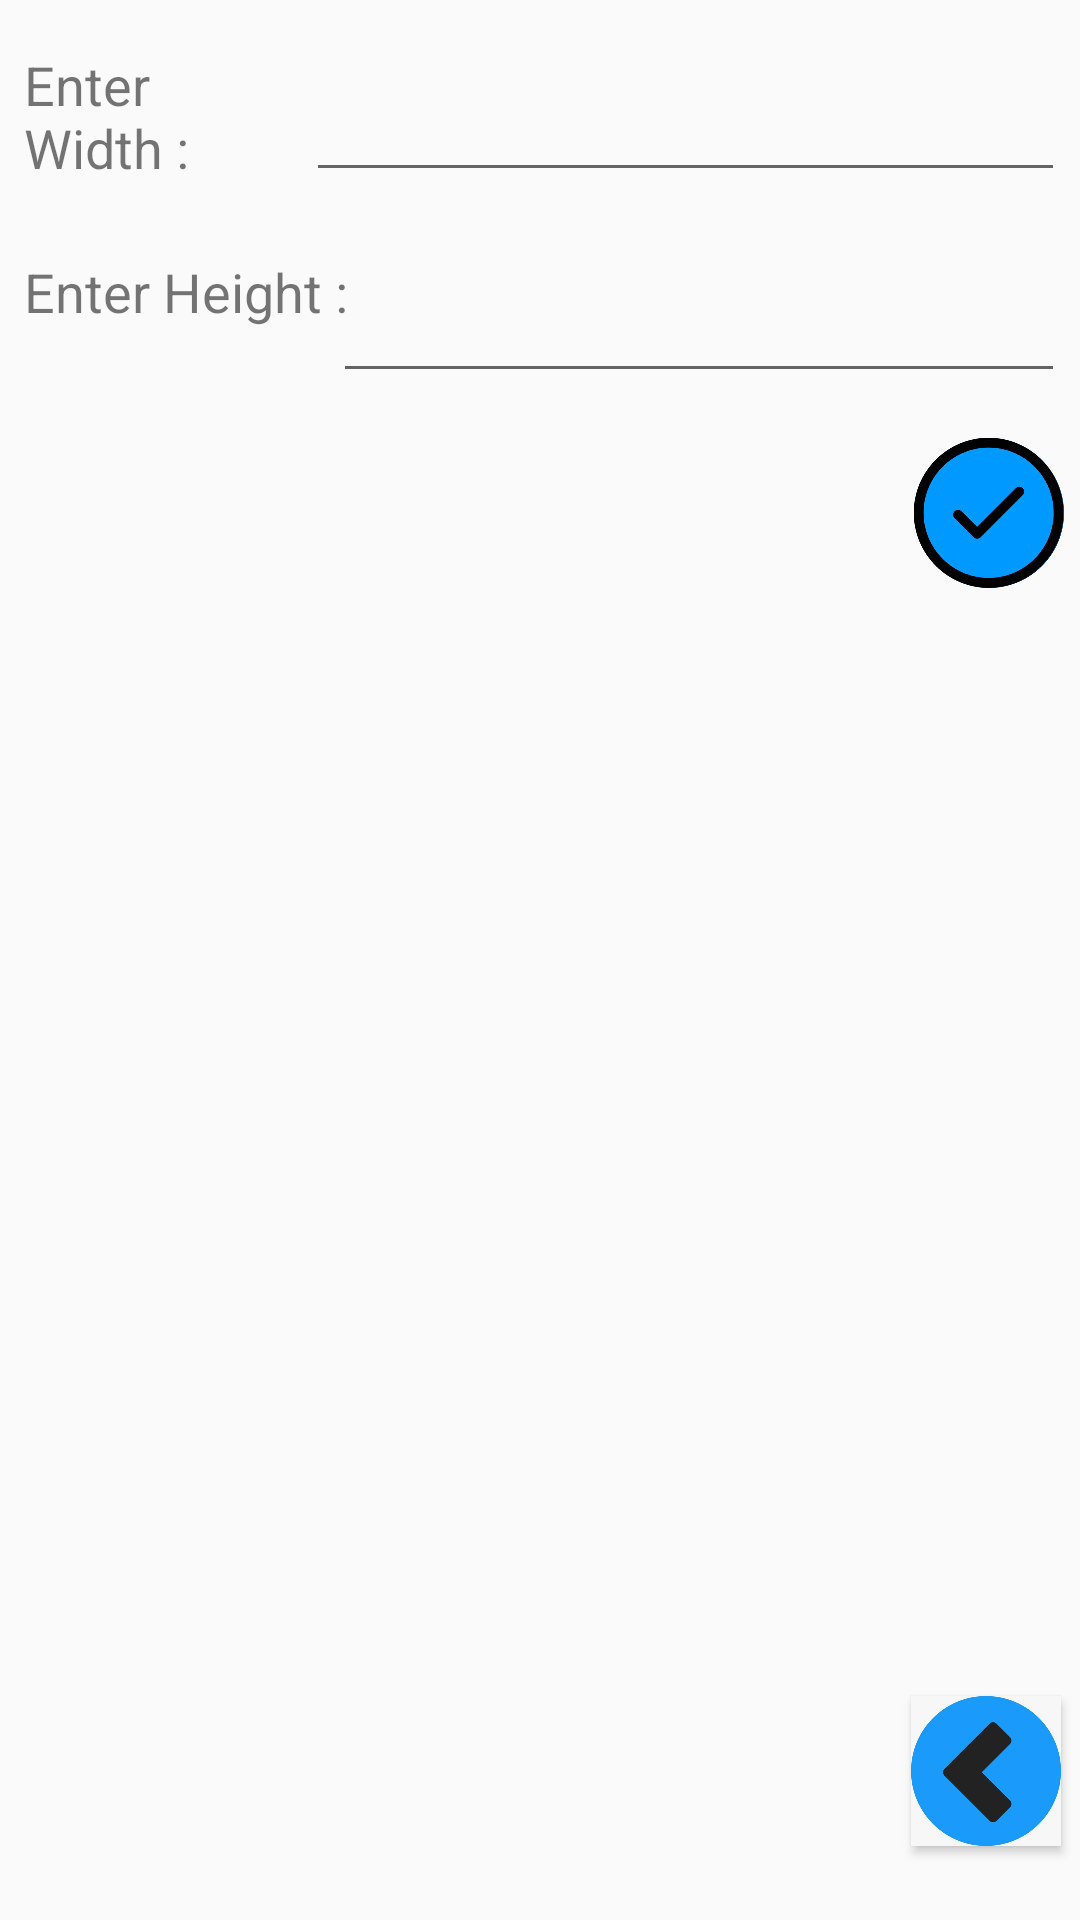

Screen size 1080×1920. Icon name, then its box in pixels as Rect(x1, y1, x2, y2):
done: Rect(914, 438, 1064, 588)
left: Rect(911, 1696, 1061, 1846)
